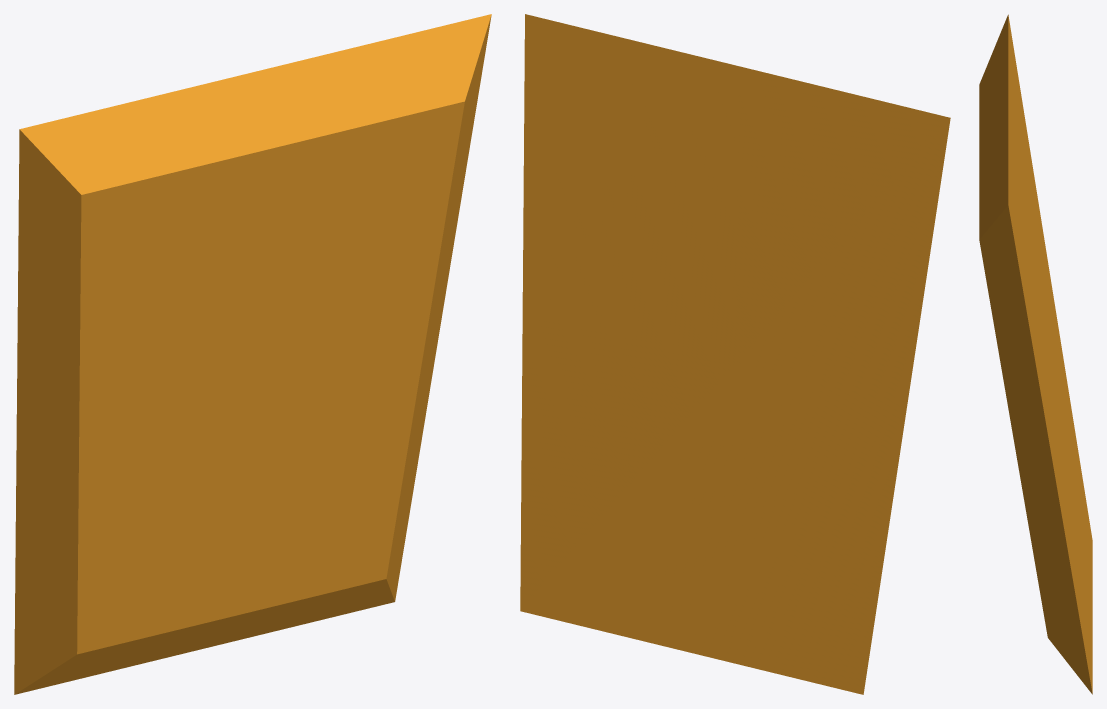
The model's file is top_y.glb.
3 renders of one model, left to right at view 1: azimuth 30°, elevation 25°; view 2: azimuth 150°, elevation 25°; view 3: azimuth 270°, elevation 25°, orthographic. The views are drawn at different scales.
Visible parts, largest first — view 1: TopRew; view 2: TopRew; view 3: TopRew.
Boxes of the visible parts, left/top/right/bottom form: TopRew: left=14, top=14, right=491, bottom=694; TopRew: left=520, top=14, right=950, bottom=694; TopRew: left=979, top=14, right=1092, bottom=694.
Size of the model in its own units: 0.8184 by 1.02 by 0.2056.
1 material, 1 textured.
